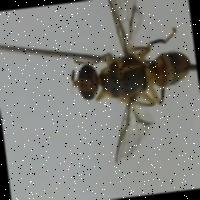Oriental-fruit-fly: (59, 0, 200, 180)
